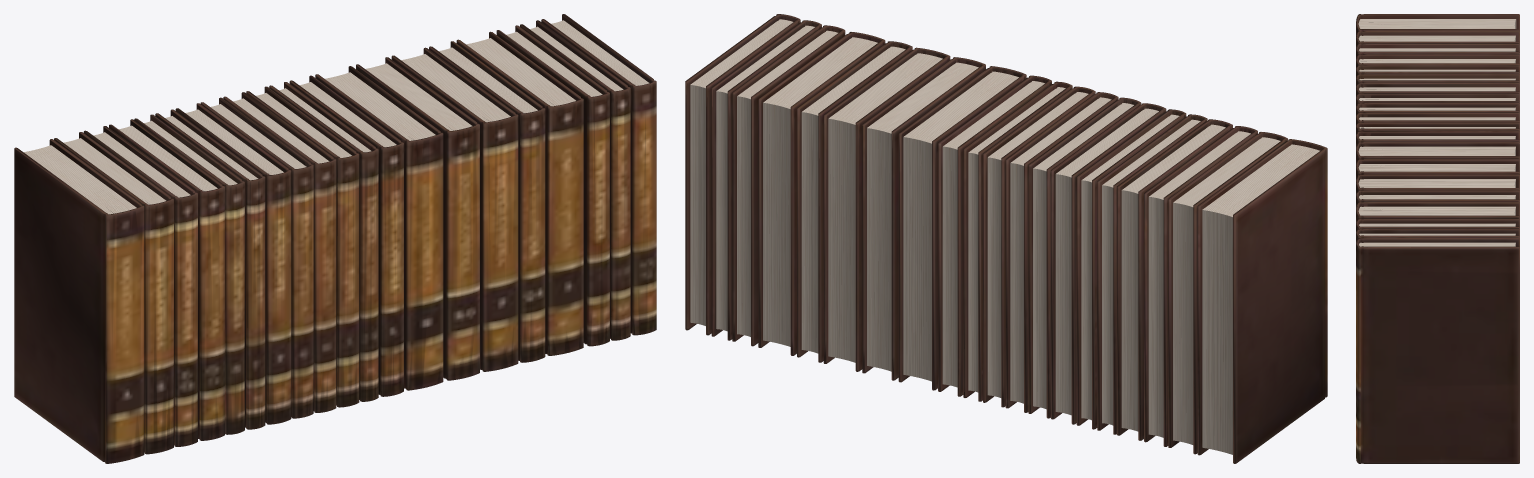
Rendered from book_encyclopedia_set_01.glb.
3 renders of one model, left to right at view 1: azimuth 30°, elevation 25°; view 2: azimuth 150°, elevation 25°; view 3: azimuth 270°, elevation 25°, orthographic. The views are drawn at different scales.
Parts seen in each view (by area): view 1: book_encyclopedia_set_01_book01; view 2: book_encyclopedia_set_01_book01; view 3: book_encyclopedia_set_01_book01.
Part boxes in pixels (box(x1,y1,x2,y2)): book_encyclopedia_set_01_book01: box(14, 14, 656, 463); book_encyclopedia_set_01_book01: box(685, 14, 1327, 463); book_encyclopedia_set_01_book01: box(1356, 14, 1519, 463).
Size of the model in its own units: 0.5513 by 0.2374 by 0.1631.
Materials: 2 (2 with a texture image).
